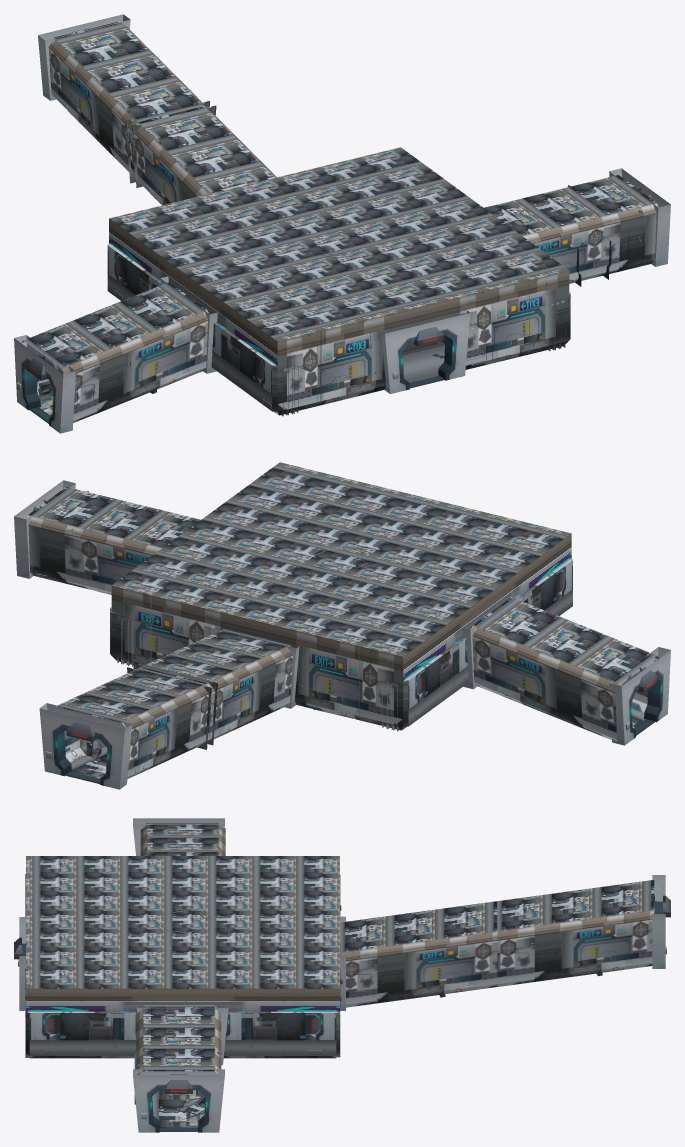
The model's file is Combined_Mesh_root_scene__11_1f1e19ed__ZombiesII_laboratory_04_d_1b2a1172_c1f257.obj.
3 renders of one model, top to bottom at view 1: azimuth 30°, elevation 25°; view 2: azimuth 150°, elevation 25°; view 3: azimuth 270°, elevation 25°, orthographic. The views are drawn at different scales.
Size of the model in its own units: 84.66 by 16.88 by 83.67.
291 materials, 291 textured.
